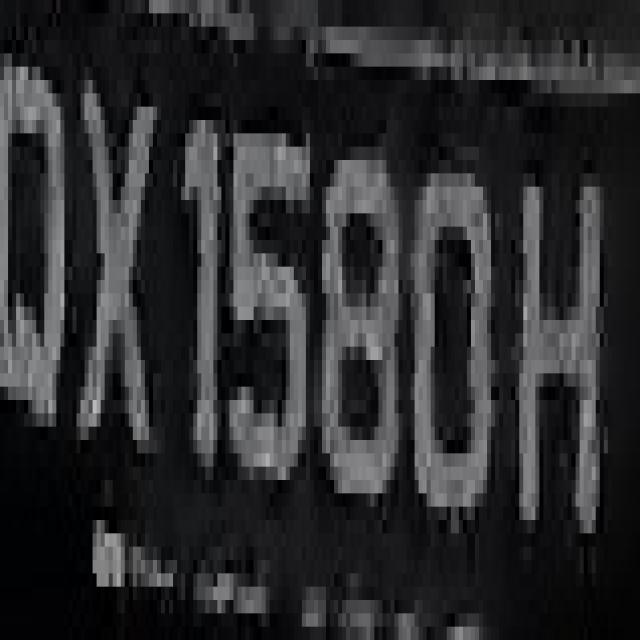0: (403, 107, 499, 573)
1: (177, 40, 217, 547)
5: (225, 40, 314, 533)
8: (318, 107, 403, 560)
H: (507, 106, 604, 586)
Q: (4, 13, 81, 440)
X: (72, 40, 165, 493)
